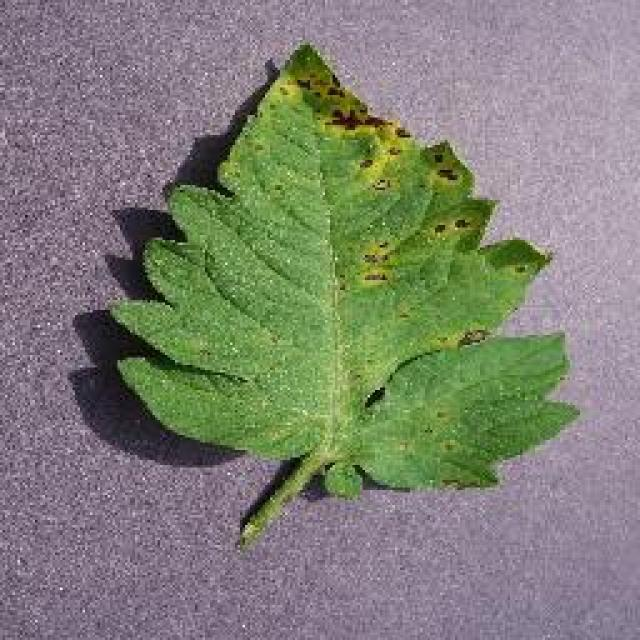Tomato target spot leaf: (109, 40, 586, 500)
